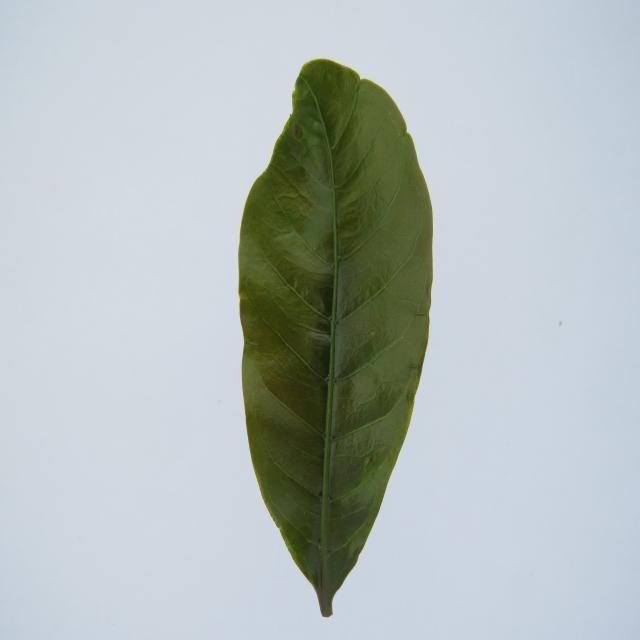DeficienciaNutricional-Boro: (239, 60, 432, 617)
